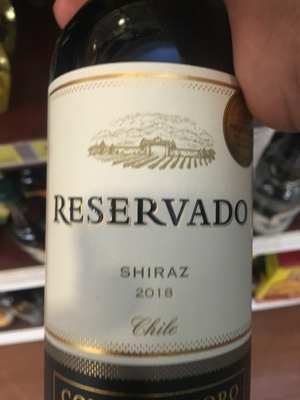reservado shiraz: (38, 14, 262, 394)
